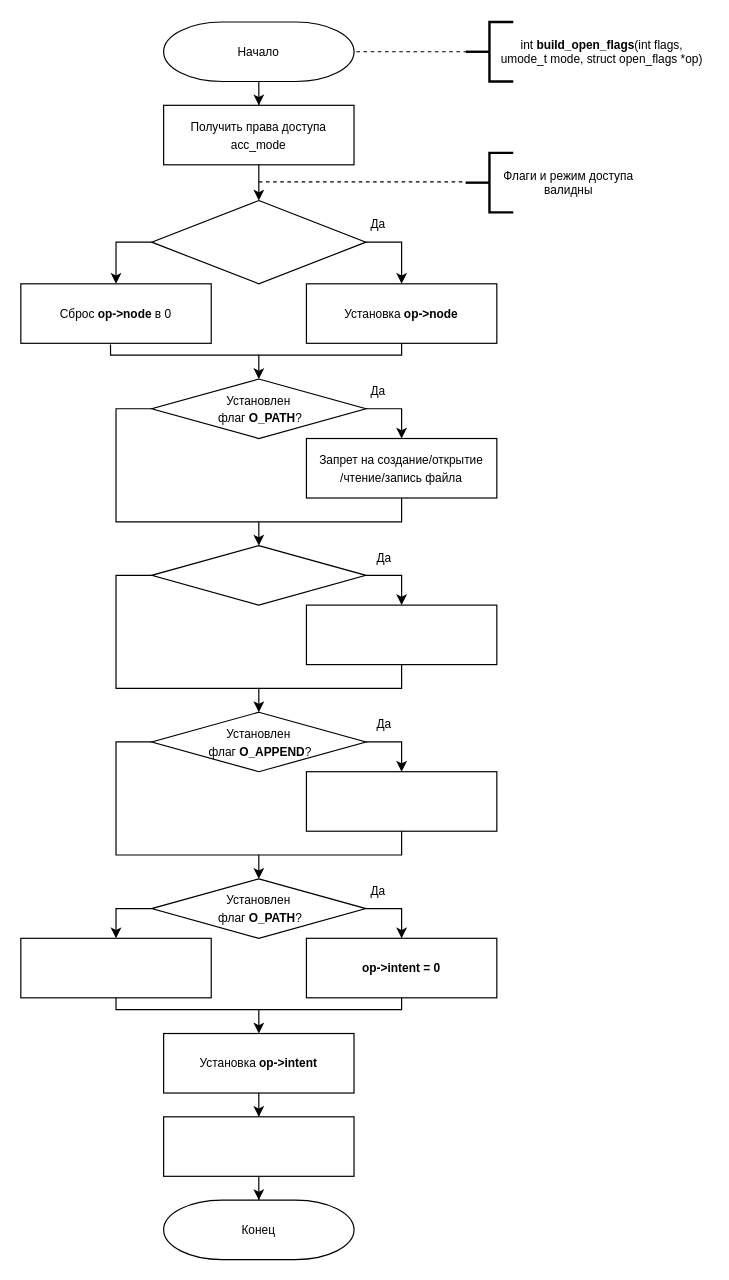
This 729x1280 diagram has some shape labels left out. The shapes that lost their labels are listed below. From the top down, each one's box as (x1, y1, x2, y2) in pixels, then its label:
(151, 199, 366, 284): Установлены флаги O_CREAT или __O_TMPFILE ?
(151, 544, 366, 605): Установлен флаг O_TRUNC ?
(305, 604, 497, 665): Добавить проверку на разрешение записи
(305, 771, 497, 831): Добавить проверку на разрешение дозаписи
(20, 937, 211, 998): op->intent = LOOKUP_OPEN
(162, 1116, 354, 1176): Установка op->lookup_flags
